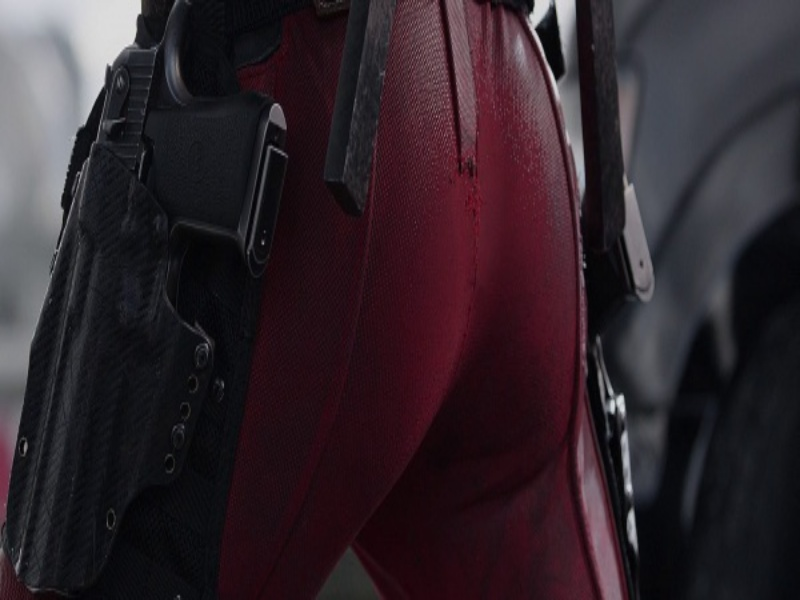person: (57, 1, 630, 592)
weapon: (12, 50, 285, 580)
